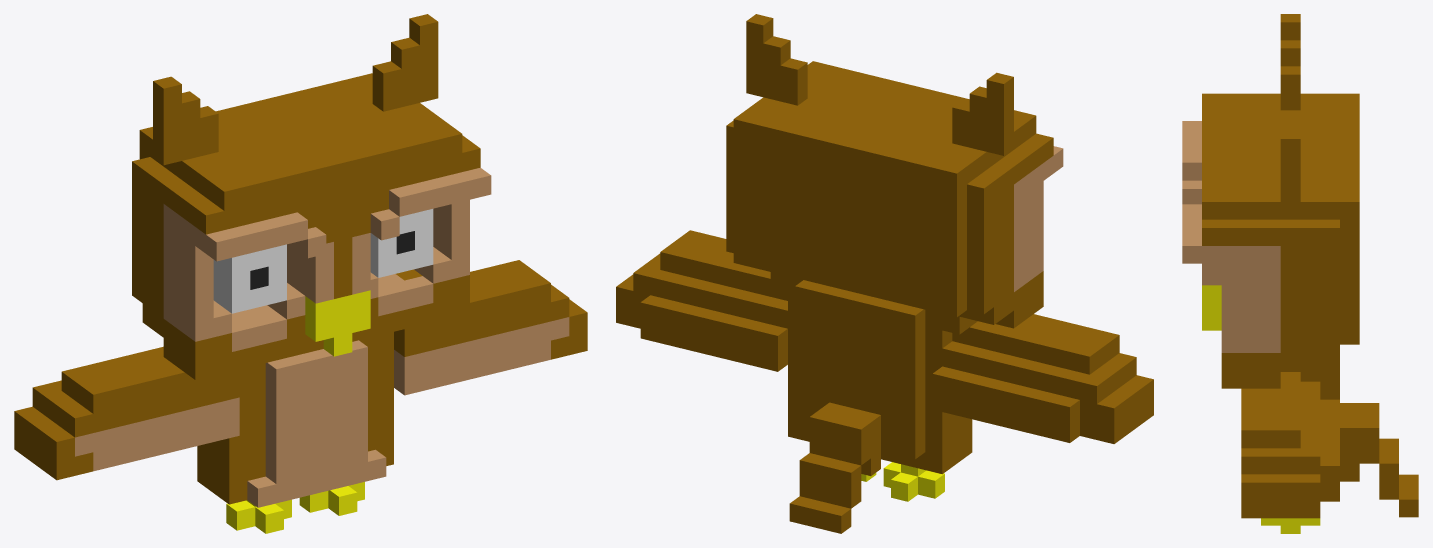
The model's file is OWL_3.obj.
3 views of the same model, side by side, from view 1: azimuth 30°, elevation 25°; view 2: azimuth 150°, elevation 25°; view 3: azimuth 270°, elevation 25° (orthographic). The views are drawn at different scales.
Bounding box in the file's own units: 2.9 × 2.4 × 1.2.
1 material, 1 textured.
